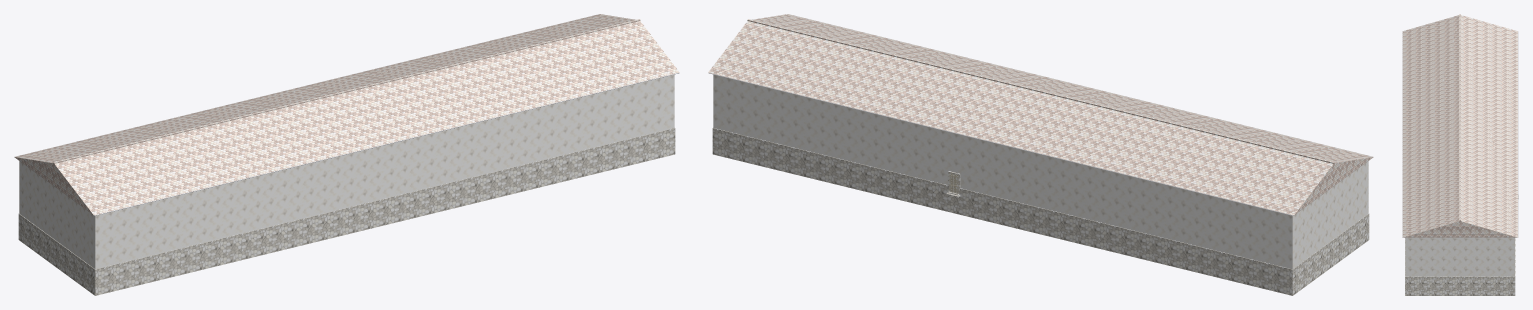
3 renders of one model, left to right at view 1: azimuth 30°, elevation 25°; view 2: azimuth 150°, elevation 25°; view 3: azimuth 270°, elevation 25°, orthographic. The views are drawn at different scales.
Parts seen in each view (by area): view 1: b1084716811; view 2: b1084716811; view 3: b1084716811.
Boxes of the visible parts, box(x1,y1,x2,y2) form: b1084716811: box(14, 14, 679, 295); b1084716811: box(708, 14, 1373, 295); b1084716811: box(1402, 14, 1518, 295).
Size of the model in its own units: 61.4 by 10.63 by 14.64.
Materials: 11 (11 with a texture image).
